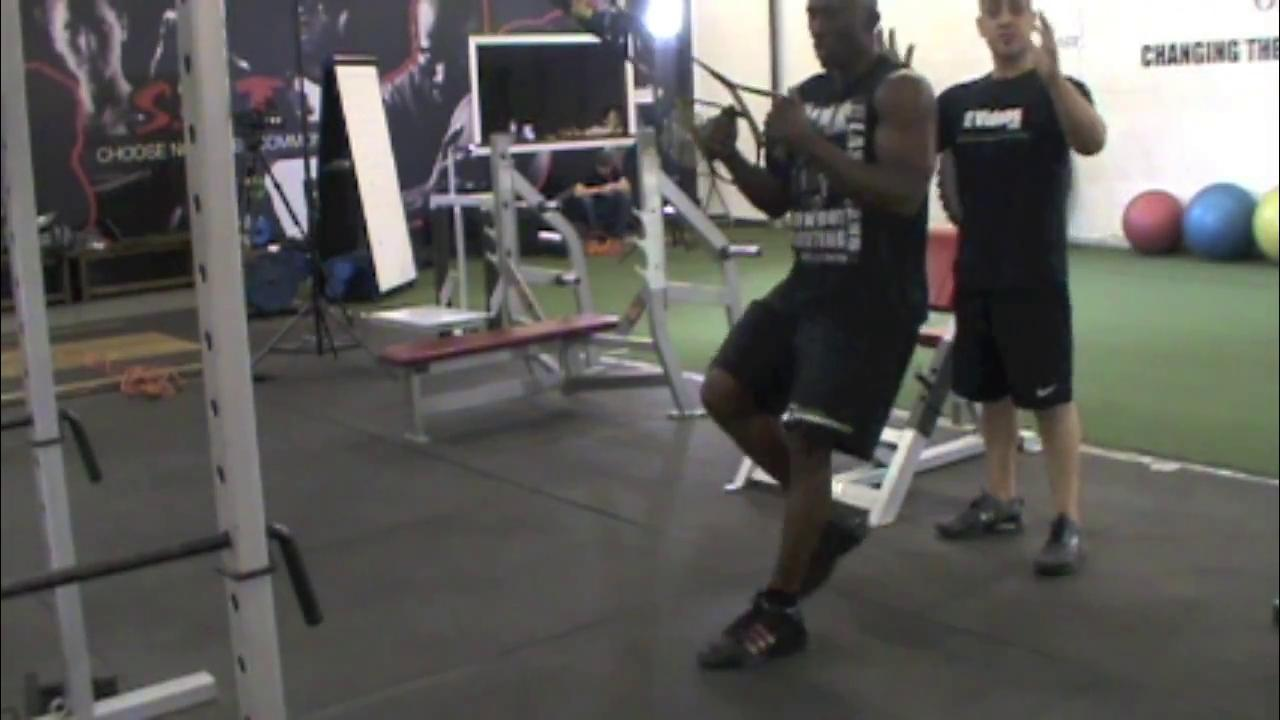victim: (689, 1, 944, 679), (914, 0, 1112, 581)
